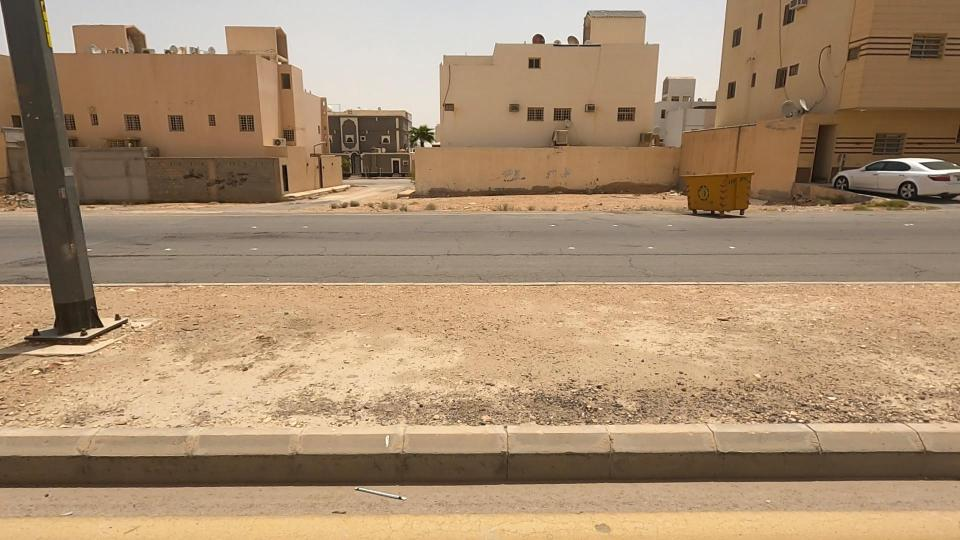CLUTTER_SIDEWALK: (5, 190, 664, 509), (405, 211, 960, 504)
GRAFFITI: (208, 144, 265, 210), (158, 153, 216, 193)
